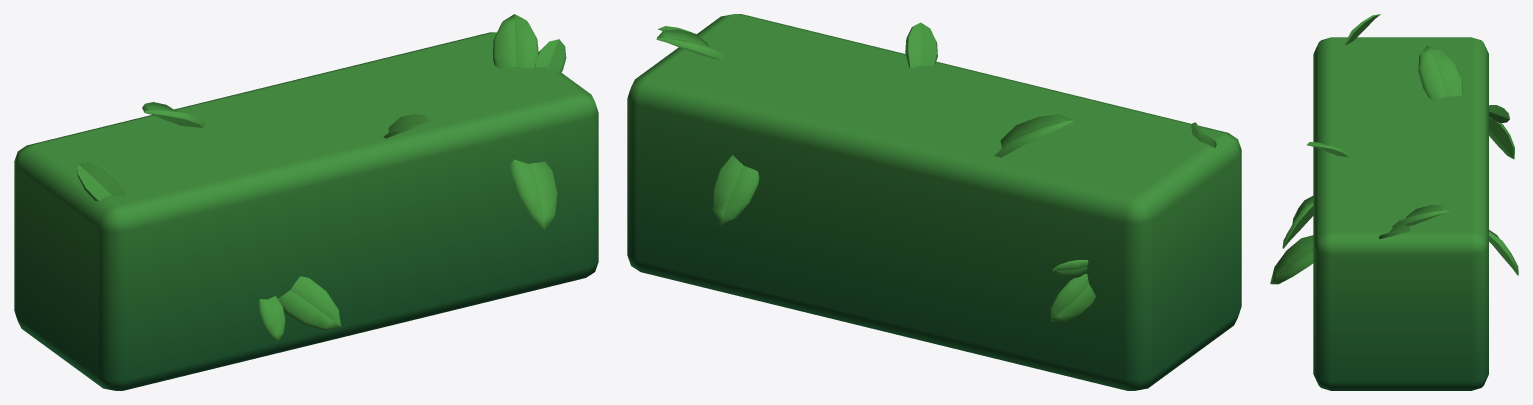
The model's file is city-bush-01.glb.
3 renders of one model, left to right at view 1: azimuth 30°, elevation 25°; view 2: azimuth 150°, elevation 25°; view 3: azimuth 270°, elevation 25°, orthographic. The views are drawn at different scales.
Visible parts, largest first — view 1: City bush 01; view 2: City bush 01; view 3: City bush 01.
Part boxes in pixels (box(x1,y1,x2,y2)): City bush 01: box(14, 14, 598, 390); City bush 01: box(627, 14, 1241, 390); City bush 01: box(1270, 14, 1518, 390).
Size of the model in its own units: 1.13 by 0.4635 by 0.5594.
Materials: 1 (1 with a texture image).
